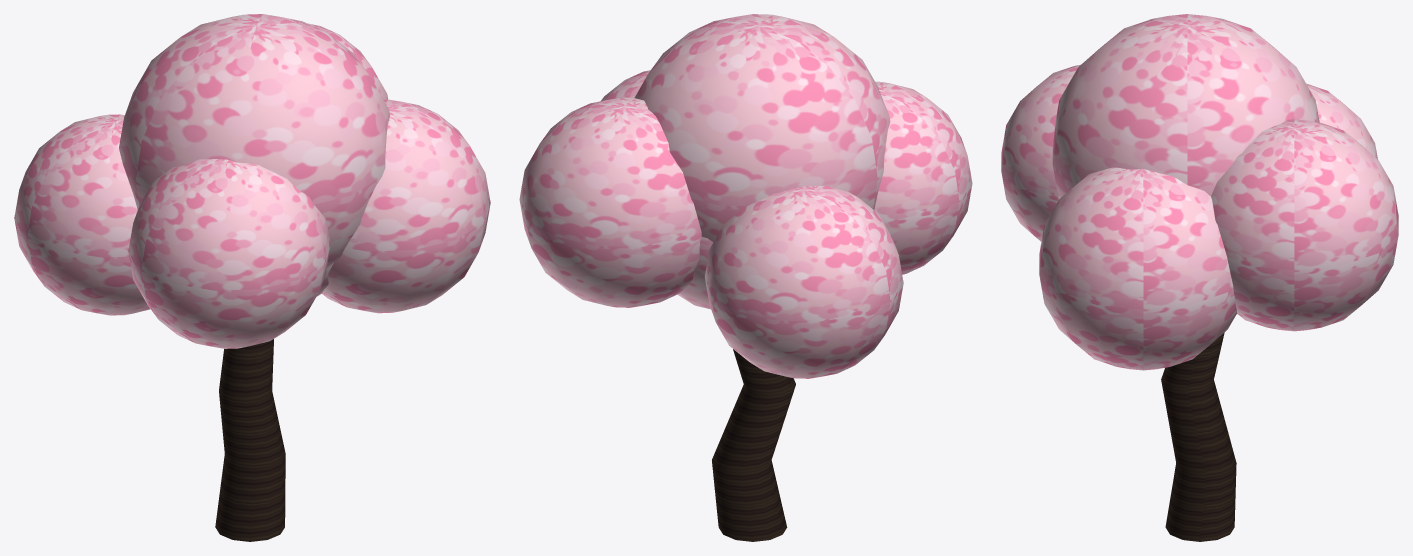
File: sakura_tree.glb
The picture shows the model from 3 angles, left to right: view 1: azimuth 30°, elevation 25°; view 2: azimuth 150°, elevation 25°; view 3: azimuth 270°, elevation 25°; orthographic projection.
Parts seen in each view (by area): view 1: ModelRoot; view 2: ModelRoot; view 3: ModelRoot.
Part boxes in pixels (x1,y1,x2,y2): ModelRoot: (14, 14, 490, 541); ModelRoot: (519, 14, 972, 541); ModelRoot: (1001, 14, 1398, 541).
Bounding box in the file's own units: 6.9 × 8.8 × 6.32.
Materials: 2 (2 with a texture image).
